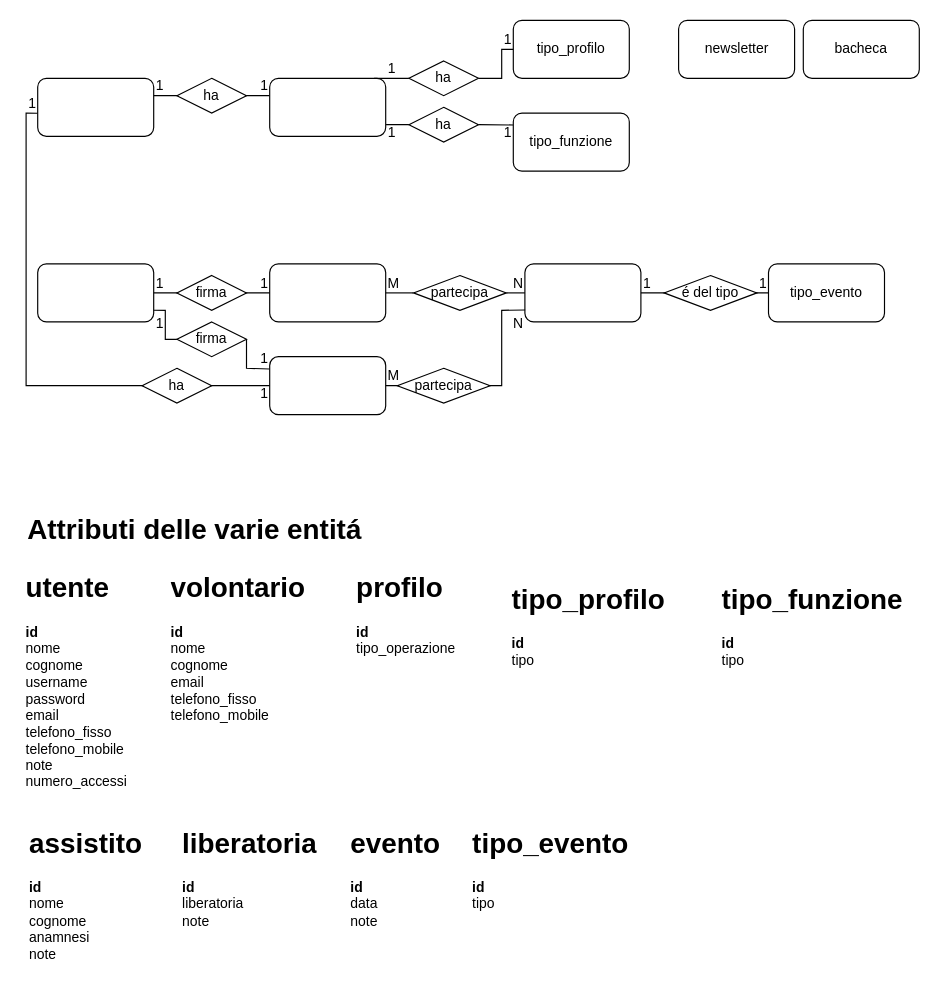
This 940x992 diagram has some shape labels left out. The shapes that lost their labels are listed below. From the top down, each one's box as (x1, y1, x2, y2) in pixels, then its label:
(37, 77, 154, 136): utente
(269, 77, 386, 136): profilo
(37, 263, 154, 322): liberatoria
(269, 263, 386, 322): volontario
(524, 263, 641, 322): evento
(269, 356, 386, 415): assistito
